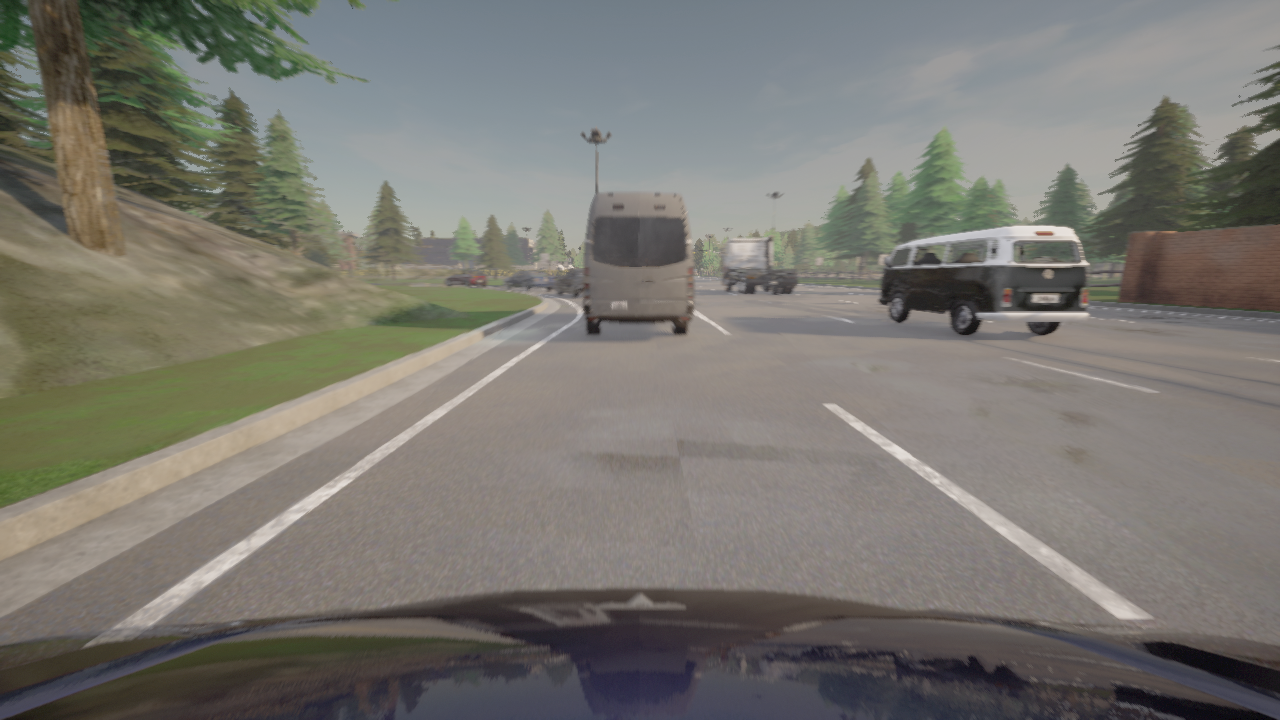cyclist: (0, 588, 1279, 719), (879, 225, 1088, 335), (582, 192, 693, 335), (720, 236, 797, 294), (502, 270, 555, 290), (554, 269, 583, 297), (444, 269, 486, 287)
